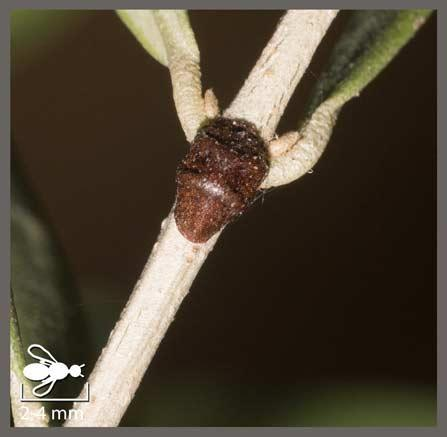BlackScale: (167, 111, 276, 248)
